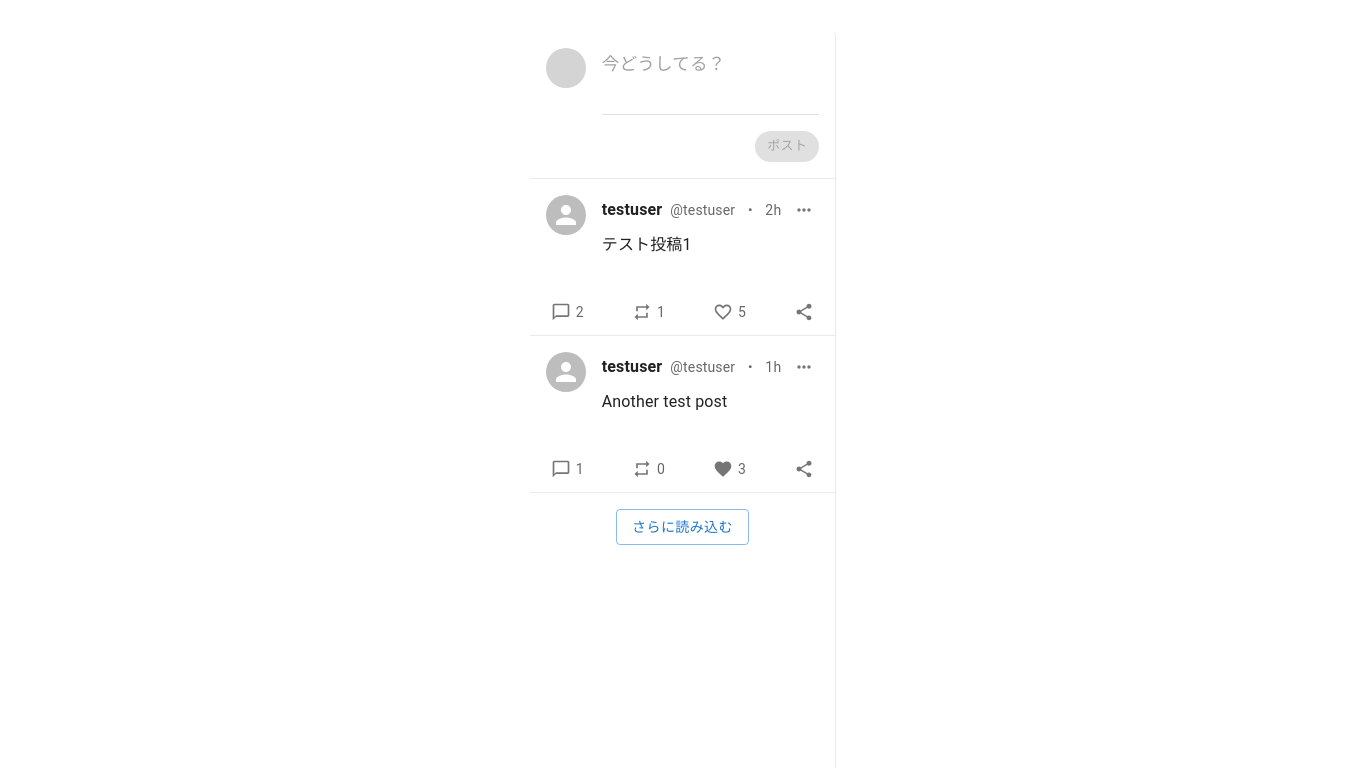
Test case: フィード › 編集ダイアログでキャンセルボタンをクリックするとダイアログが閉じる
Click the button without text next to "2h" at (804, 210), box [789,195,819,225]
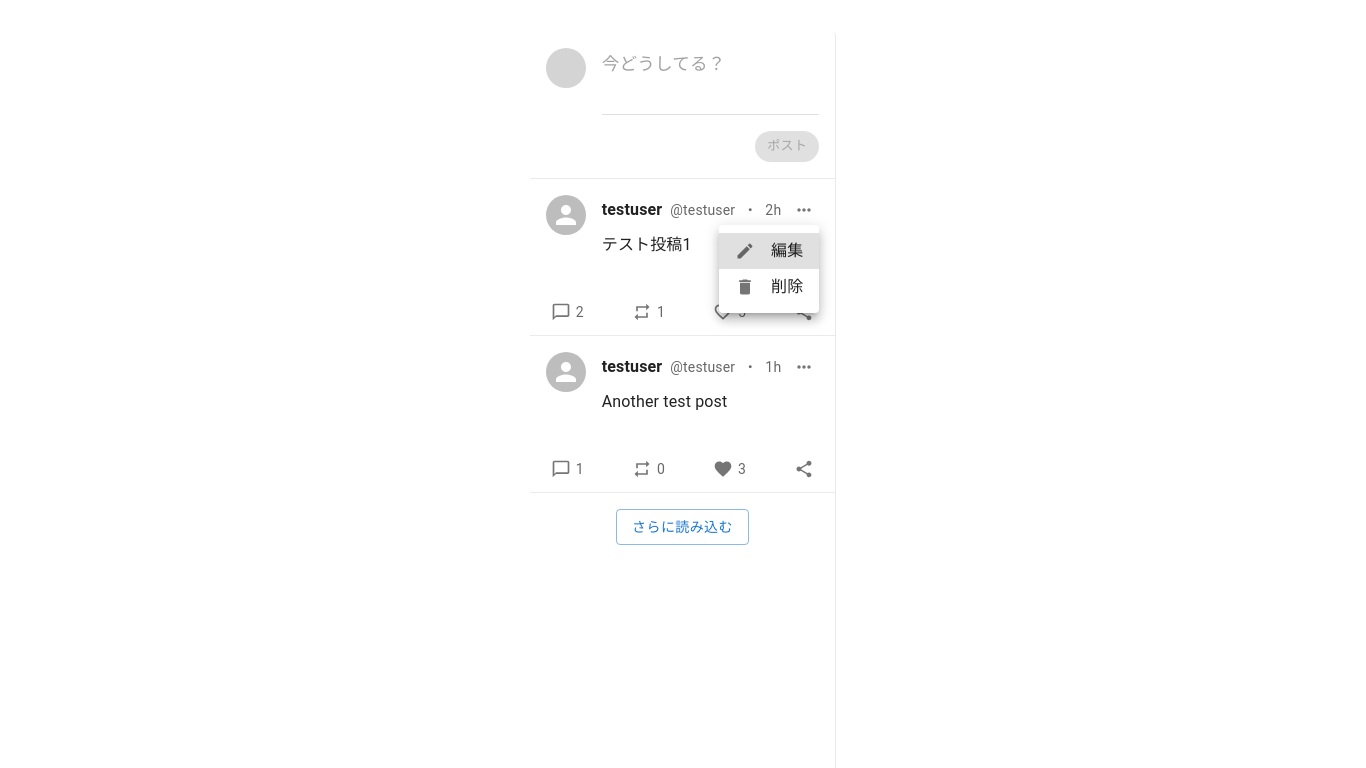
Click the menu item "編集" at (769, 251), box [719,233,819,269]
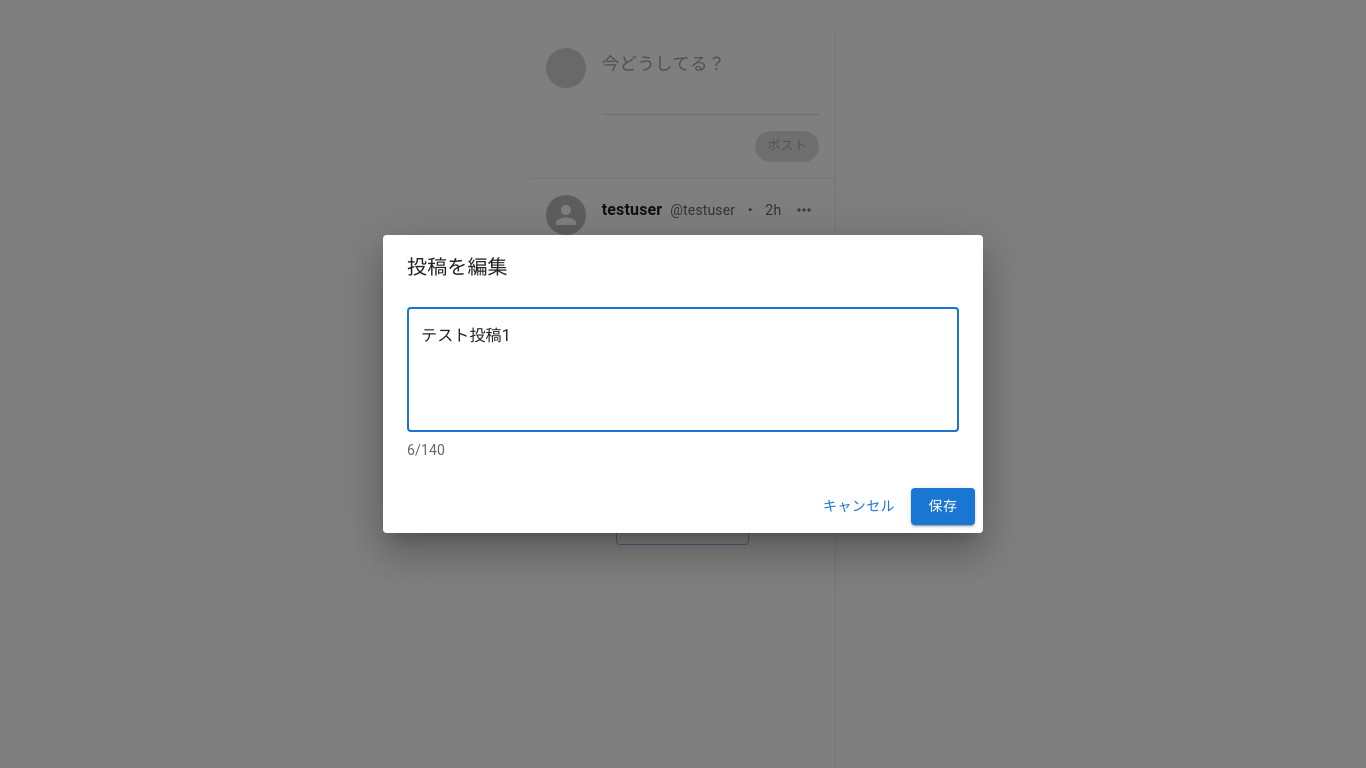
Now the heading "投稿を編集" is shown, box [407,255,508,279]
Click the button "キャンセル" at (859, 507), box [815,488,903,525]
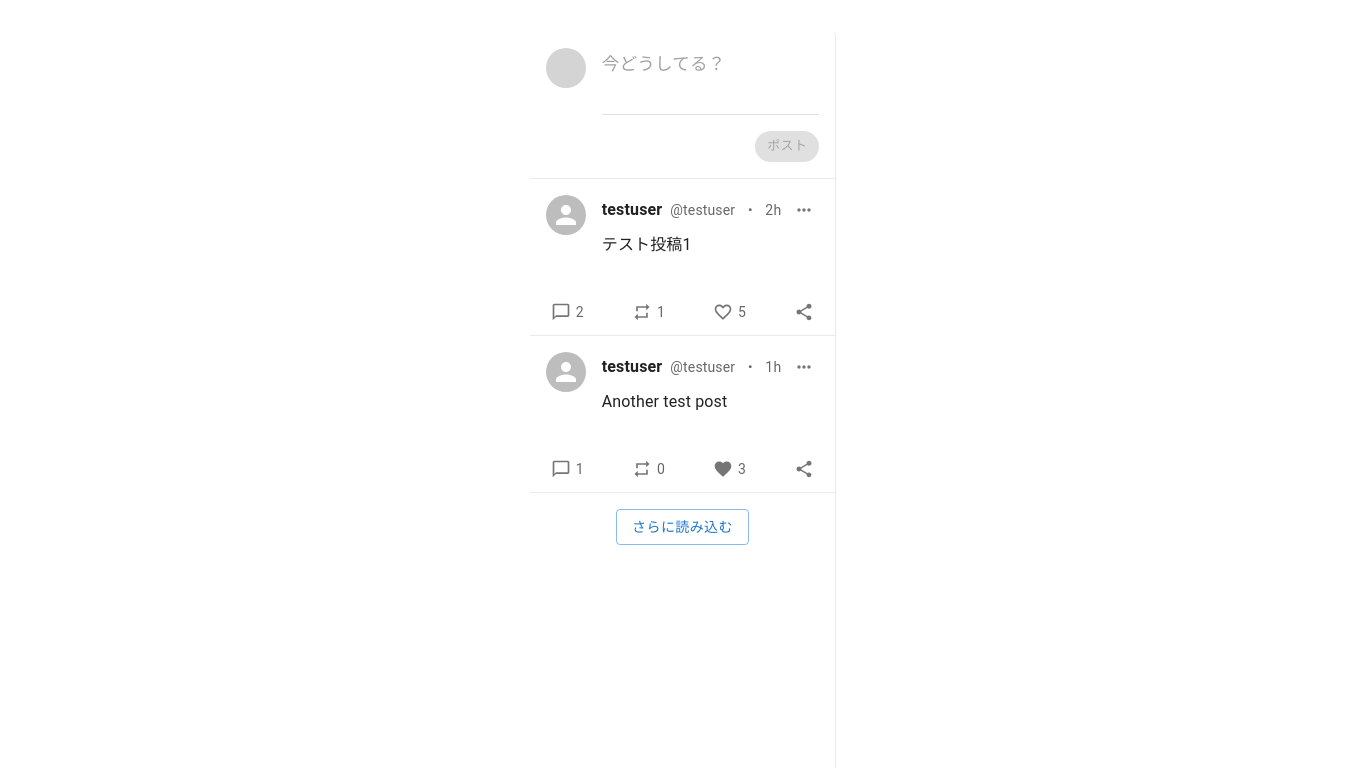
Now the heading "投稿を編集" is gone
